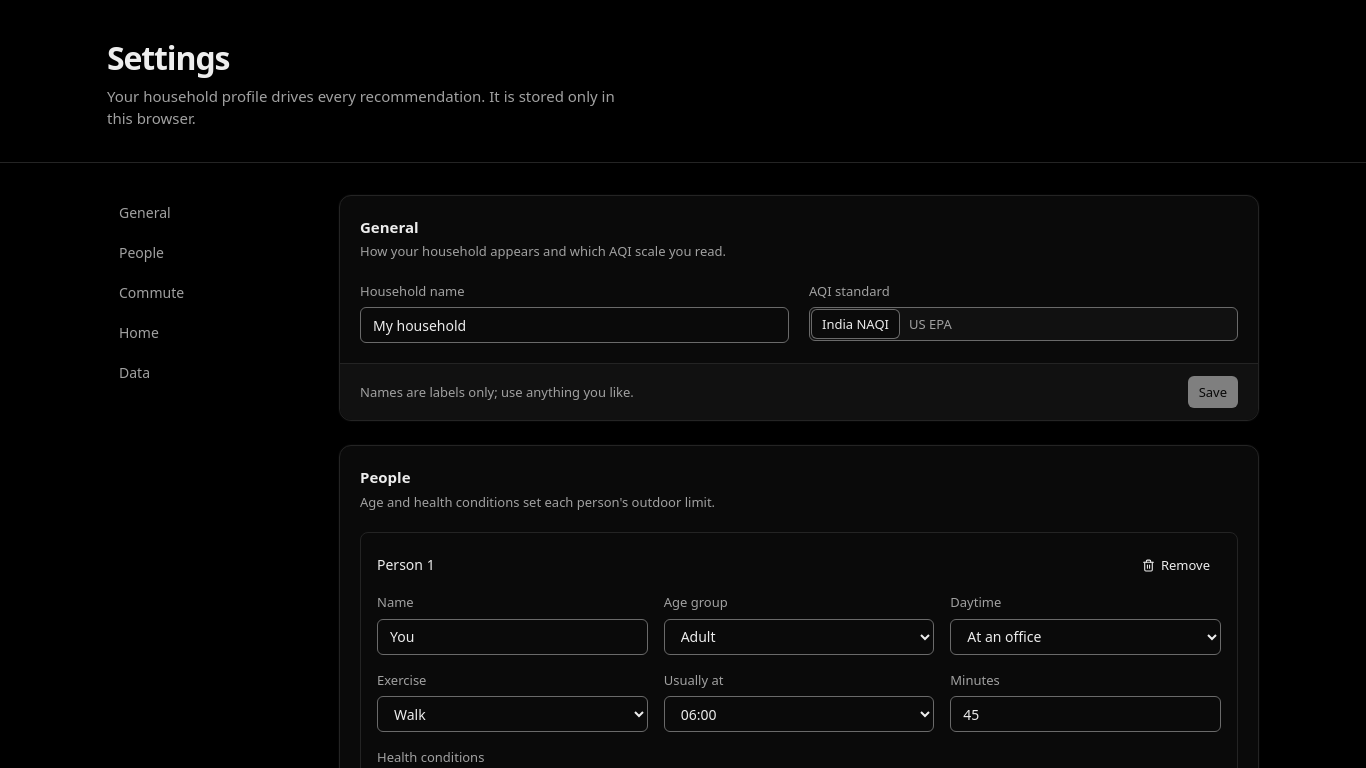
Test: Settings page › validates fields before saving
This screenshot has width=1366, height=768.
Replace the text in the field labelled "Household name" with "<script>": (574, 325) left=360, top=307, right=789, bottom=343
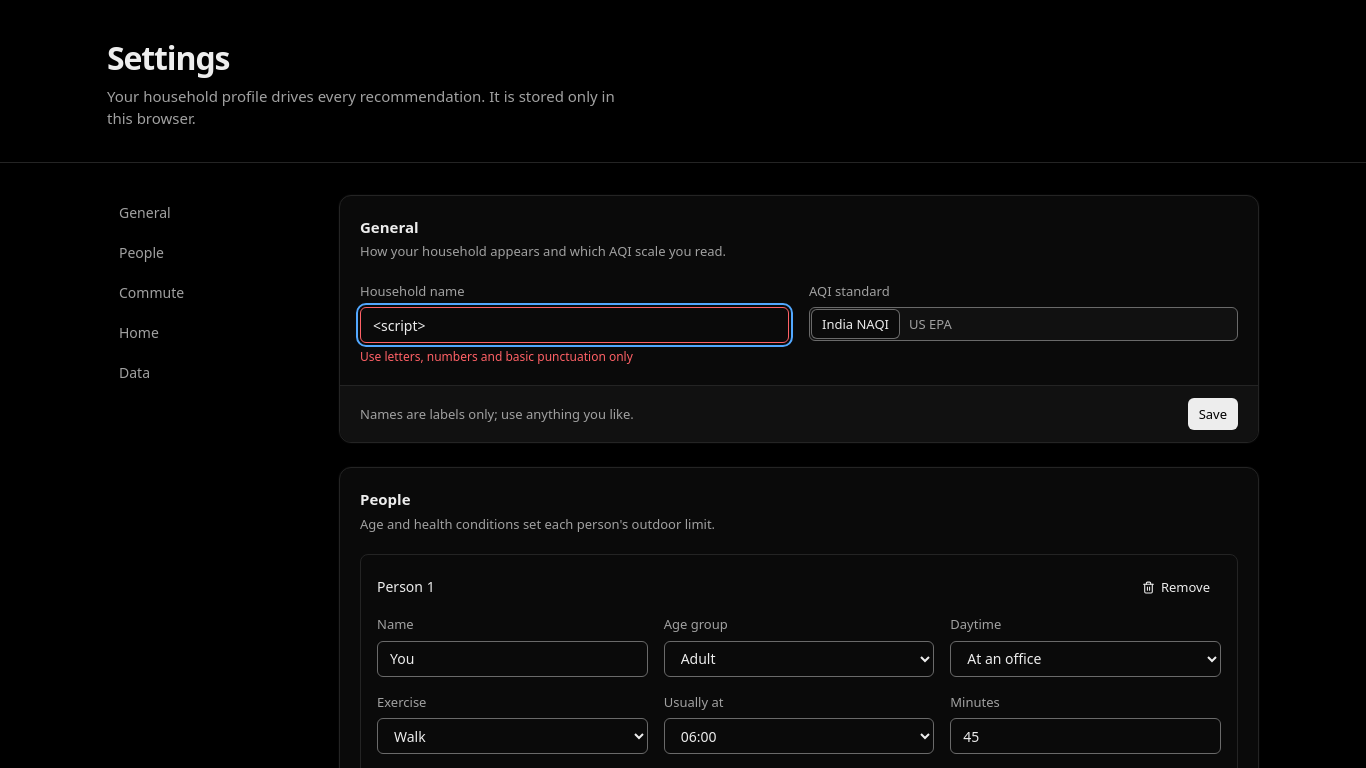
Expected: the message shows "letters, numbers", left=360, top=348, right=633, bottom=365
